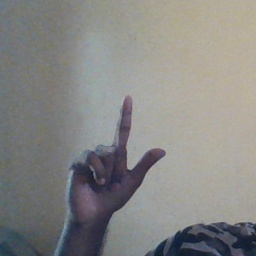L: (60, 92, 168, 219)
